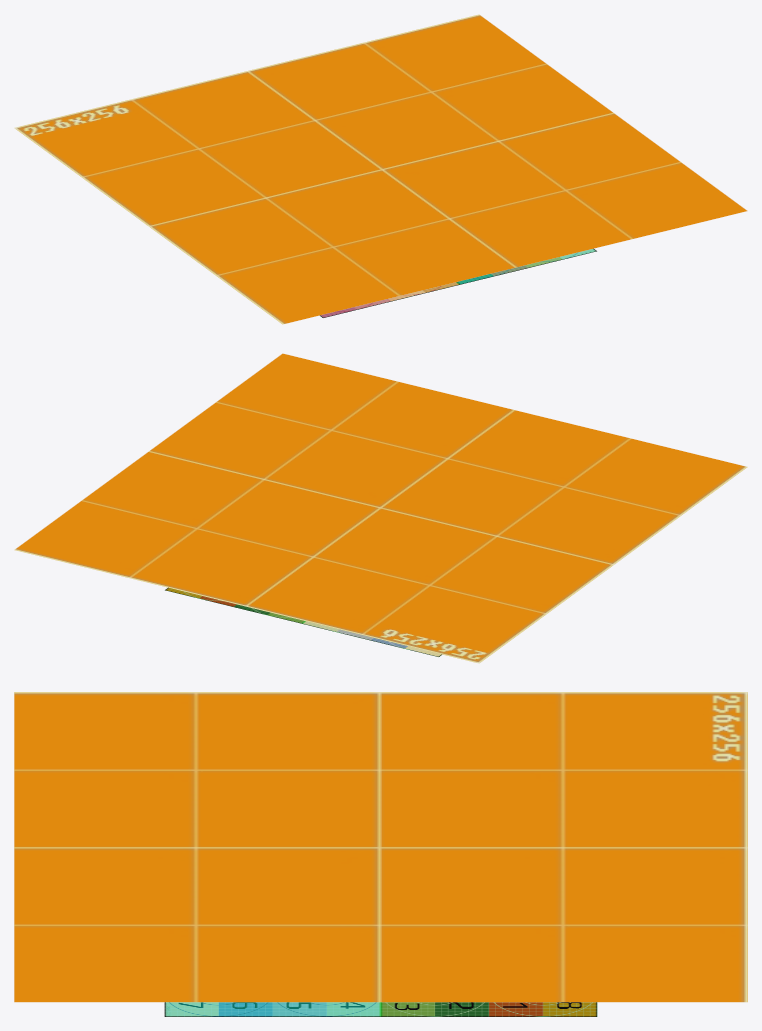
3 views of the same model, one above another, from view 1: azimuth 30°, elevation 25°; view 2: azimuth 150°, elevation 25°; view 3: azimuth 270°, elevation 25° (orthographic). The views are drawn at different scales.
Parts seen in each view (by area): view 1: Plane, Plane.001; view 2: Plane, Plane.001; view 3: Plane, Plane.001.
Boxes of the visible parts, bbox=[...] form: Plane: bbox=[14, 14, 747, 324]; Plane.001: bbox=[320, 248, 596, 317]; Plane: bbox=[14, 353, 747, 663]; Plane.001: bbox=[165, 587, 441, 656]; Plane: bbox=[14, 692, 747, 1002]; Plane.001: bbox=[164, 1002, 597, 1016].
Bounding box in the file's own units: 200 × 23.53 × 200.
Materials: 2 (2 with a texture image).
